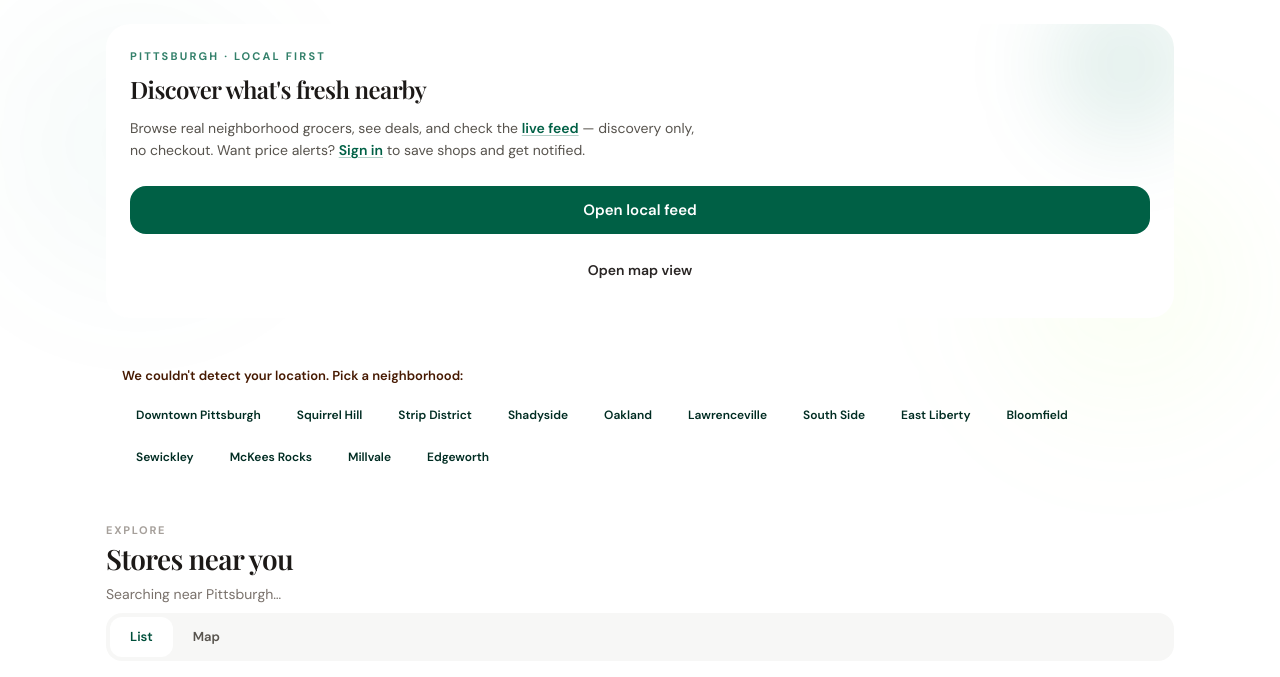
selectNeighborhood › hides the neighborhood picker after a neighborhood is successfully selected
This screenshot has width=1280, height=677.
Expected: the text "We couldn't detect your location. Pick a neighborhood:" is shown, x1=122 y1=367 x2=463 y2=384
Click the button "Shadyside": (538, 414) x1=494 y1=398 x2=582 y2=432
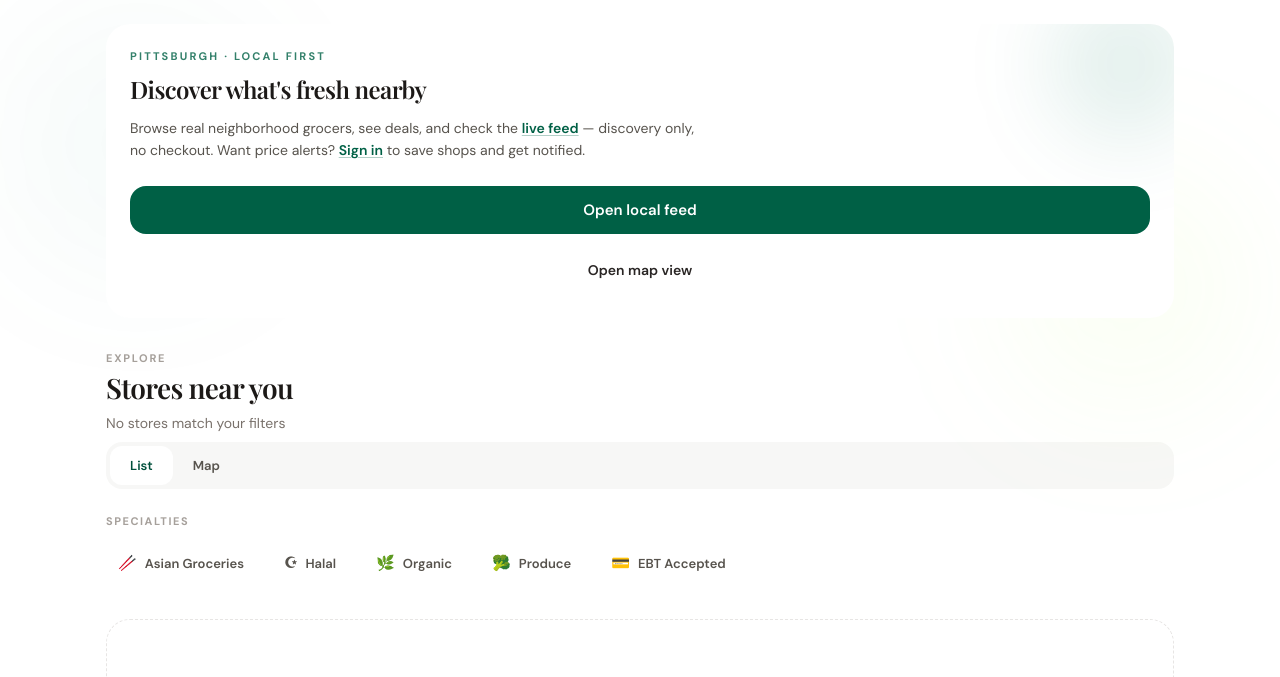
Now the text "couldn't detect your location" is gone
